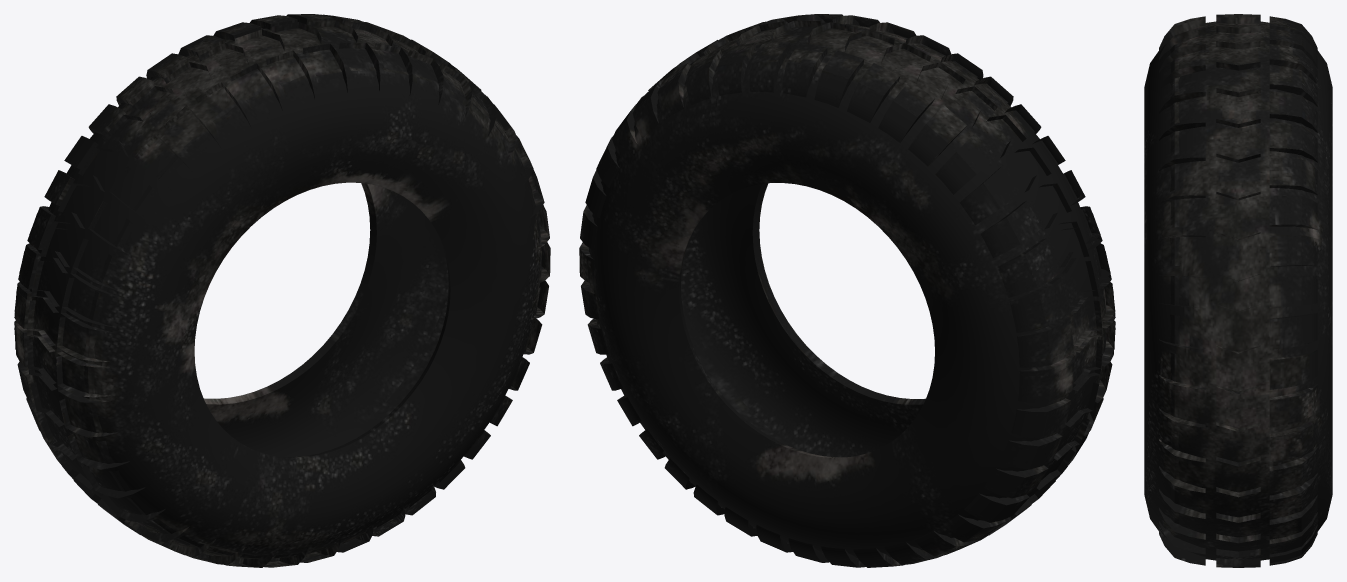
Rendered from used_tire__tyre.glb.
3 views of the same model, side by side, from view 1: azimuth 30°, elevation 25°; view 2: azimuth 150°, elevation 25°; view 3: azimuth 270°, elevation 25° (orthographic). The views are drawn at different scales.
Parts seen in each view (by area): view 1: Object_2; view 2: Object_2; view 3: Object_2.
Part boxes in pixels (left/top/right/bottom): Object_2: left=14, top=14, right=550, bottom=567; Object_2: left=579, top=14, right=1115, bottom=567; Object_2: left=1144, top=14, right=1332, bottom=567.
Bounding box in the file's own units: 104 × 104 × 35.47.
Materials: 1 (1 with a texture image).
